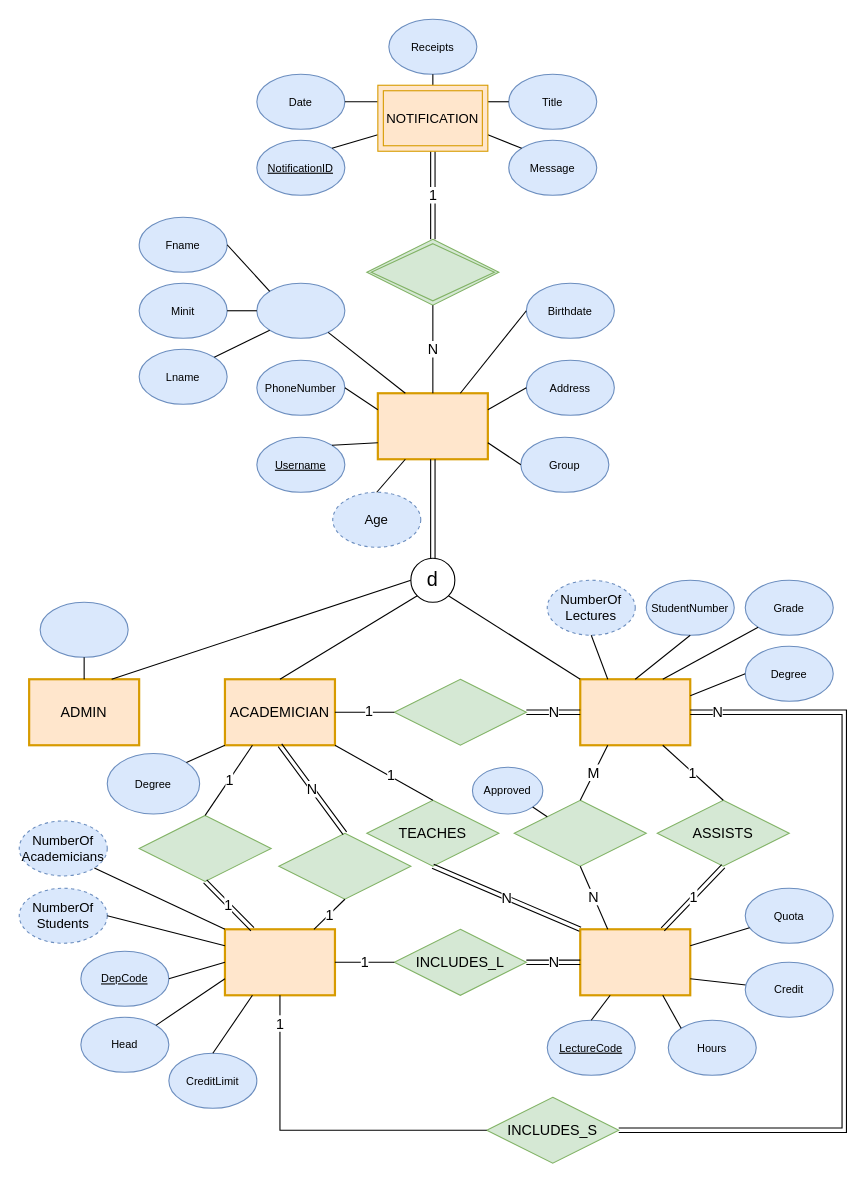
The diagram is 866 pixels wide and 1183 high, and some of its shapes have lost their labels. The box of each missing label's shape, as (x1, y1, x2, y2) in pixels:
AccesLevel: (39, 601, 128, 657)
ADVISES: (393, 678, 526, 745)
CHAIRS: (138, 814, 271, 881)
DEPARTMENT: (223, 928, 336, 996)
Fullname: (256, 282, 345, 338)
GETS: (366, 238, 499, 305)
INCLUDES_A: (278, 832, 411, 899)
LECTURE: (579, 928, 691, 996)
STUDENT: (579, 678, 691, 746)
TAKES: (513, 799, 646, 866)
USER: (376, 392, 488, 460)
